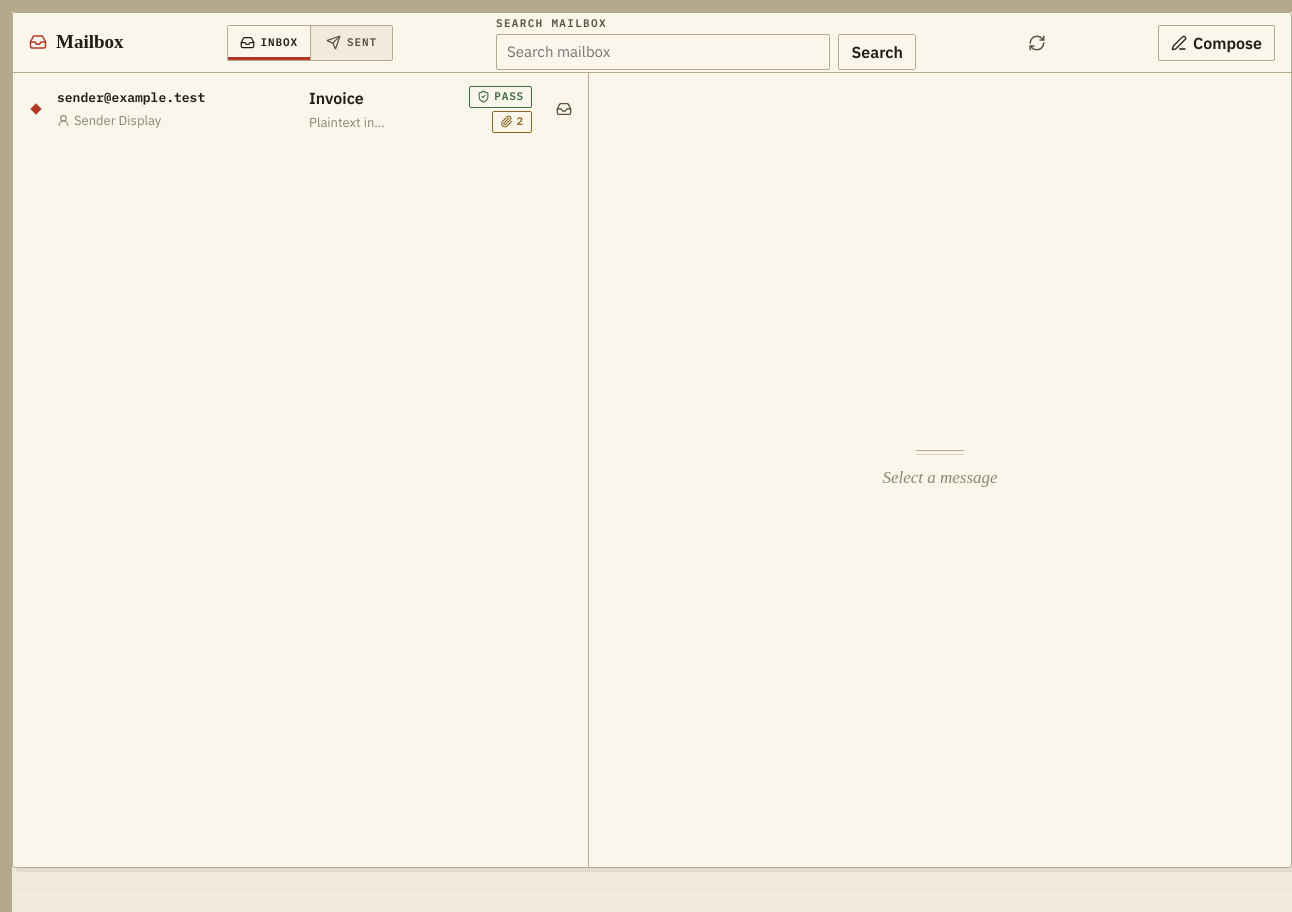
Test case: MailboxView › renders empty search results
Type "missing" into the field with placeholder "Search mailbox" at (663, 52), box [496,34,830,70]
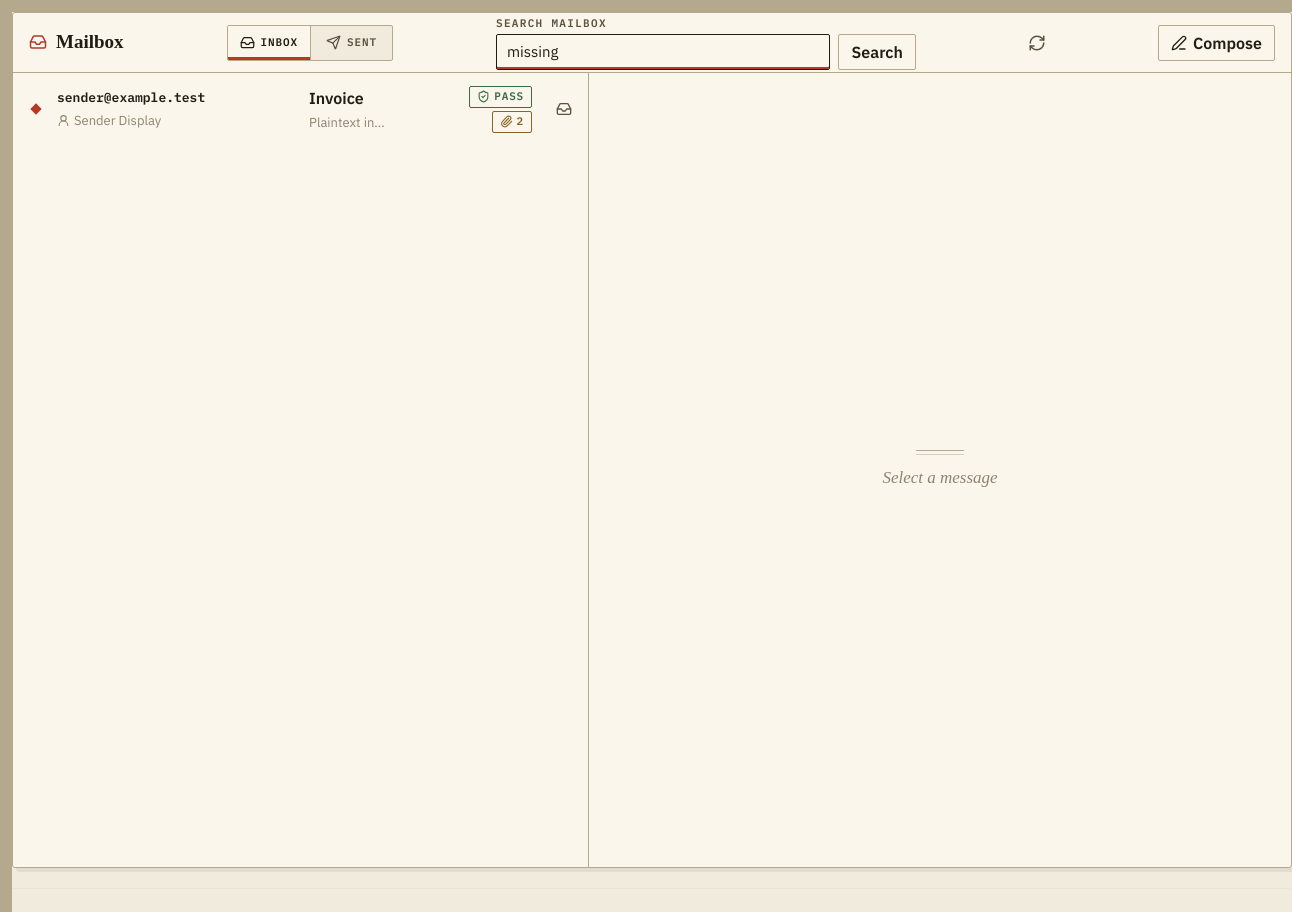
Click the button "Search" at (877, 52), box [838,34,916,70]
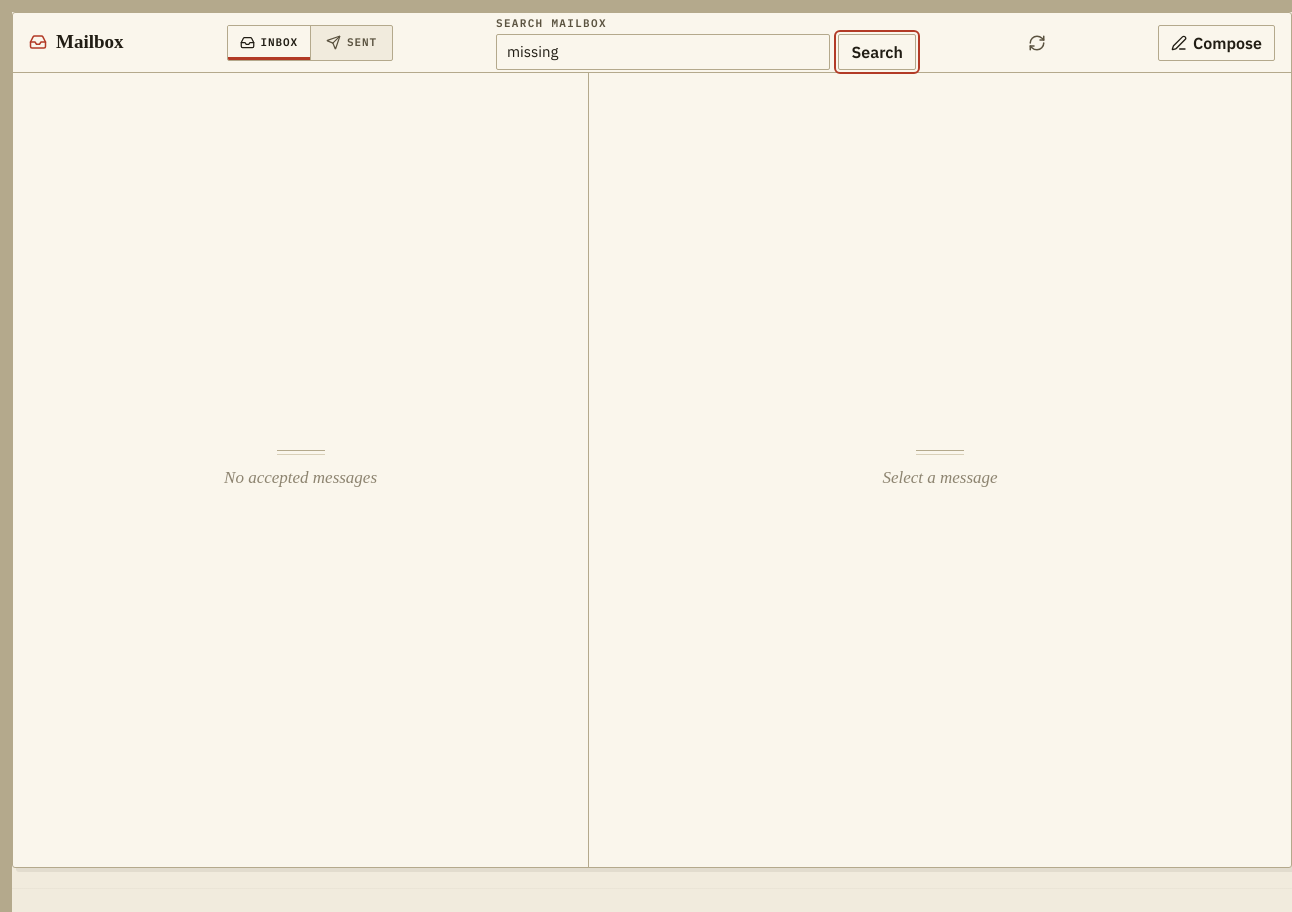
Expected: the text "No accepted messages" is shown, [224,468,377,487]
